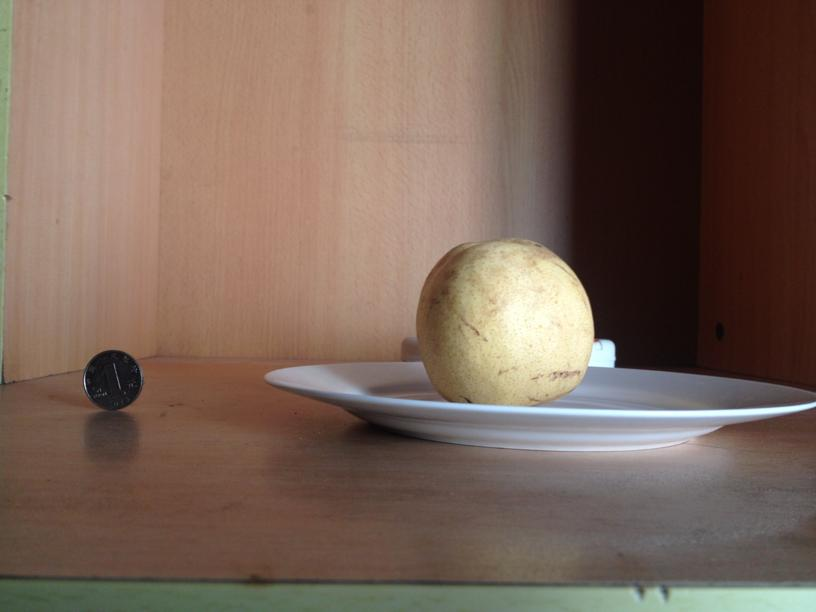coin: (84, 351, 141, 406)
pear: (416, 239, 594, 408)
